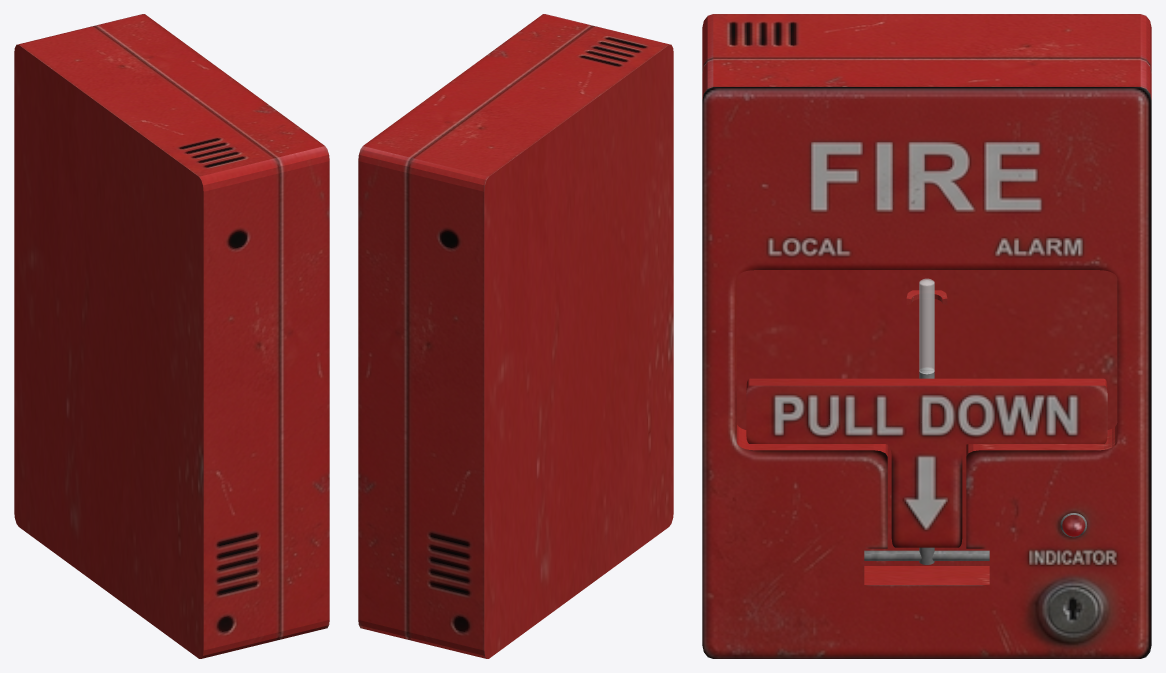
Rendered from simple_fire_alarm.glb.
The picture shows the model from 3 angles, left to right: view 1: azimuth 30°, elevation 25°; view 2: azimuth 150°, elevation 25°; view 3: azimuth 270°, elevation 25°; orthographic projection. The views are drawn at different scales.
Parts seen in each view (by area): view 1: Base.001; view 2: Base.001; view 3: Base.001, PushHolder, Ampule.
Part boxes in pixels (bbox=[...]): Base.001: bbox=[14, 14, 329, 658]; Base.001: bbox=[358, 14, 673, 658]; Base.001: bbox=[702, 14, 1151, 658]; PushHolder: bbox=[746, 371, 1107, 564]; Ampule: bbox=[919, 278, 934, 374].
Size of the model in its own units: 1.46 by 4.97 by 3.54.
Materials: 4 (3 with a texture image).
